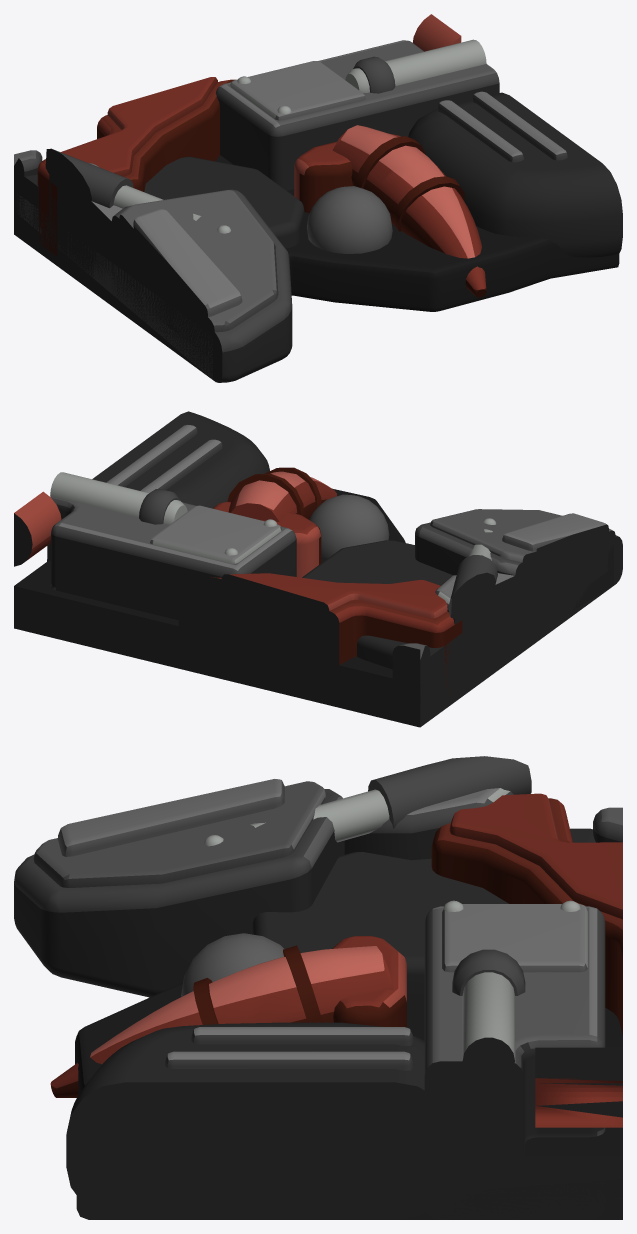
Rendered from core_machine_bcl.glb.
The picture shows the model from 3 angles, top to bottom: view 1: azimuth 30°, elevation 25°; view 2: azimuth 150°, elevation 25°; view 3: azimuth 270°, elevation 25°; orthographic projection. The views are drawn at different scales.
Visible parts, largest first — view 1: chassis.001, belly.001, pelvis.001, shin.001, hip.001, shin_panel.001, claw.001, shin_ridge.001, lower_plate.001, lower_panel.001, pelvis_panel0.001, claw_ball.001 (+12 smaller); view 2: chassis.001, lower_plate.001, pelvis.001, hip.001, shin.001, belly.001, lower_panel.001, pelvis_panel0.001, shin_panel.001, shin_ridge.001, claw_ball.001, thigh.001 (+12 smaller); view 3: belly.001, chassis.001, pelvis.001, shin.001, hip.001, shin_panel.001, claw.001, lower_panel.001, pelvis_panel0.001, lower_plate.001, shin_ridge.001, core_rod.001 (+12 smaller).
Part boxes in pixels (box(x1,y1,x2,y2)): chassis.001: box(14, 155, 619, 379); belly.001: box(408, 92, 622, 257); pelvis.001: box(215, 40, 499, 190); shin.001: box(111, 189, 292, 382); hip.001: box(20, 156, 304, 288); shin_panel.001: box(119, 190, 278, 332); claw.001: box(332, 125, 486, 297); shin_ridge.001: box(133, 209, 242, 354); lower_plate.001: box(37, 79, 235, 256); lower_panel.001: box(61, 77, 217, 176); pelvis_panel0.001: box(230, 61, 365, 120); claw_ball.001: box(307, 186, 392, 253); chassis.001: box(14, 488, 617, 726); lower_plate.001: box(178, 574, 462, 705); pelvis.001: box(47, 497, 296, 620); hip.001: box(302, 540, 497, 719); shin.001: box(415, 522, 622, 653); belly.001: box(92, 411, 269, 508); lower_panel.001: box(221, 573, 447, 620); pelvis_panel0.001: box(150, 505, 281, 563); shin_panel.001: box(430, 509, 615, 562); shin_ridge.001: box(502, 513, 608, 618); claw_ball.001: box(309, 494, 389, 558); thigh.001: box(435, 573, 522, 663); belly.001: box(66, 1022, 453, 1219); chassis.001: box(75, 983, 622, 1219); pelvis.001: box(424, 906, 605, 1219); shin.001: box(14, 789, 344, 997); hip.001: box(252, 828, 595, 993); shin_panel.001: box(33, 781, 325, 887); claw.001: box(50, 946, 393, 1097); lower_panel.001: box(449, 793, 622, 919); pelvis_panel0.001: box(442, 904, 587, 972); lower_plate.001: box(431, 798, 622, 1035); shin_ridge.001: box(58, 779, 284, 856); core_rod.001: box(535, 1047, 622, 1127).
Bounding box in the file's own units: 24 × 7.23 × 20.88.
